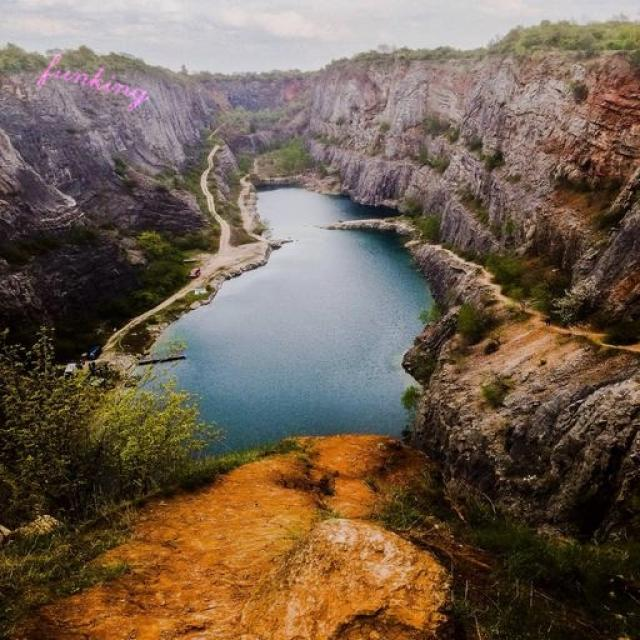watermark: (37, 49, 170, 107)
